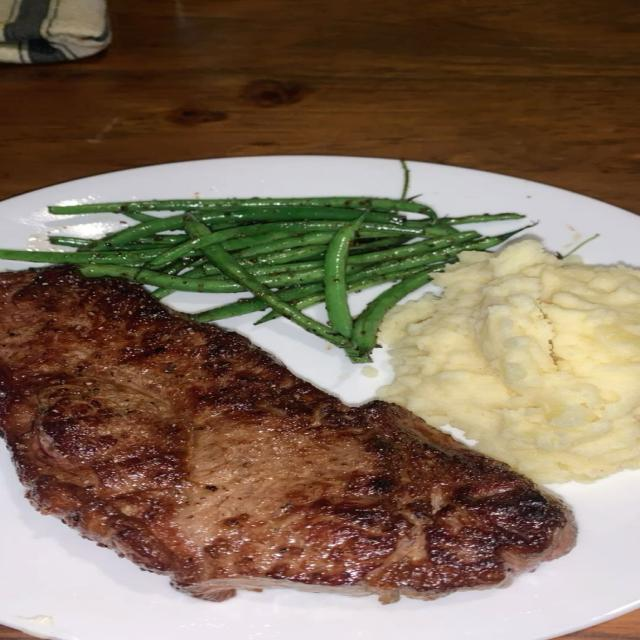beef steak: (0, 266, 575, 602)
mashed potatoes: (378, 240, 639, 483)
stream beens: (185, 218, 351, 347), (205, 244, 350, 348), (50, 196, 436, 219), (151, 220, 345, 265), (350, 268, 440, 363), (348, 243, 480, 290), (81, 264, 249, 293), (324, 214, 363, 338), (95, 216, 185, 251), (202, 207, 360, 226), (349, 238, 463, 264), (237, 231, 329, 257), (0, 249, 164, 263), (194, 297, 270, 321), (256, 260, 323, 287), (223, 229, 291, 251), (258, 243, 327, 264), (363, 221, 453, 236), (251, 260, 321, 276), (280, 284, 323, 308), (440, 212, 524, 224), (346, 275, 385, 292), (291, 289, 323, 309), (349, 276, 385, 291), (49, 236, 92, 247), (183, 258, 208, 276), (257, 311, 280, 324), (485, 234, 506, 246), (153, 288, 177, 298), (367, 212, 390, 222), (348, 266, 363, 274), (384, 240, 394, 248), (166, 267, 177, 274)
